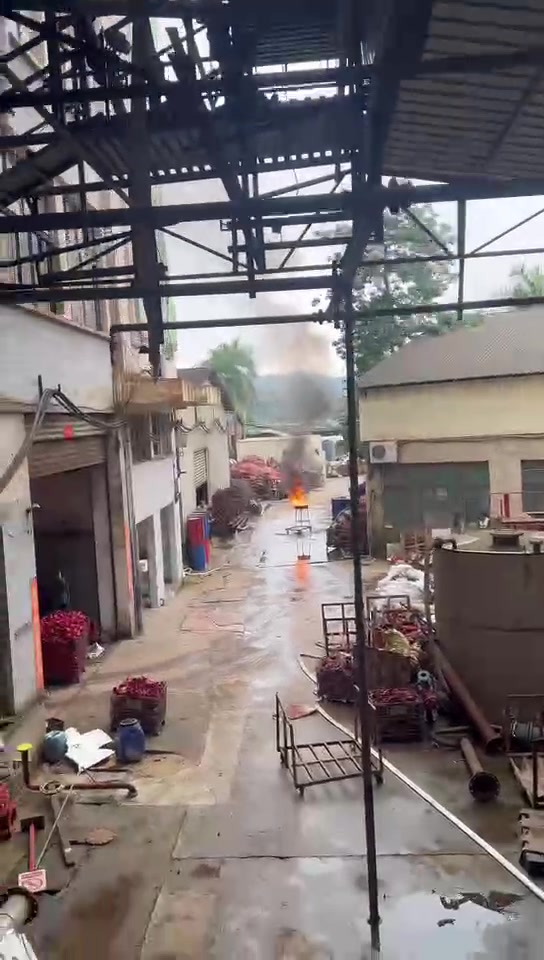fire: (288, 481, 307, 505)
